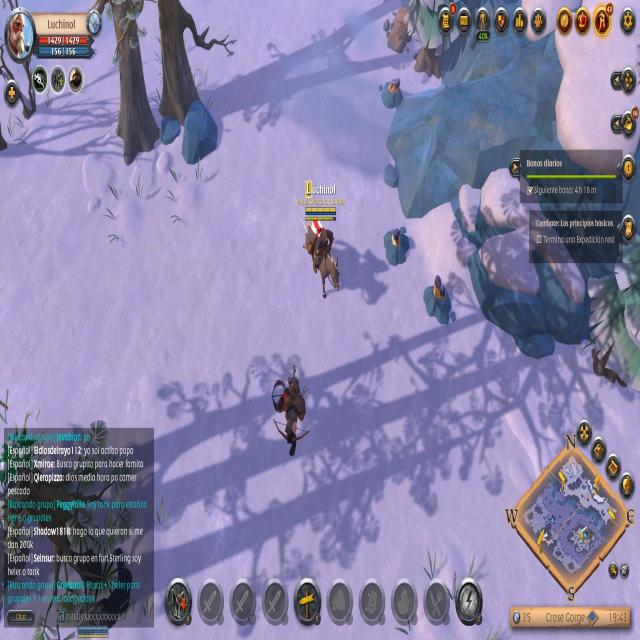piedra_cobre: (424, 275, 454, 324), (383, 226, 408, 266), (380, 79, 402, 109)
